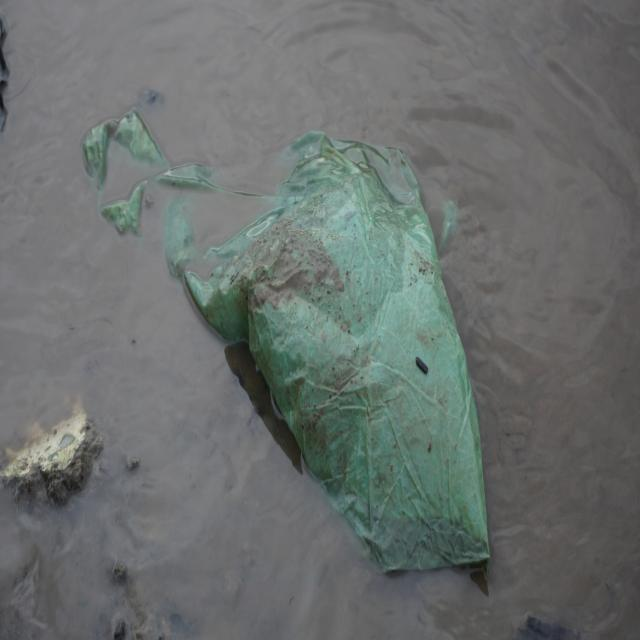Kantong Plastik: (82, 106, 493, 576)
